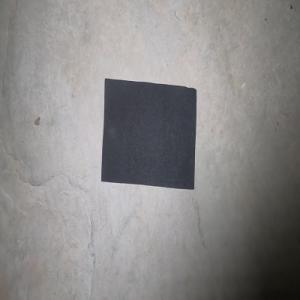PaintChip: (101, 78, 196, 189)
